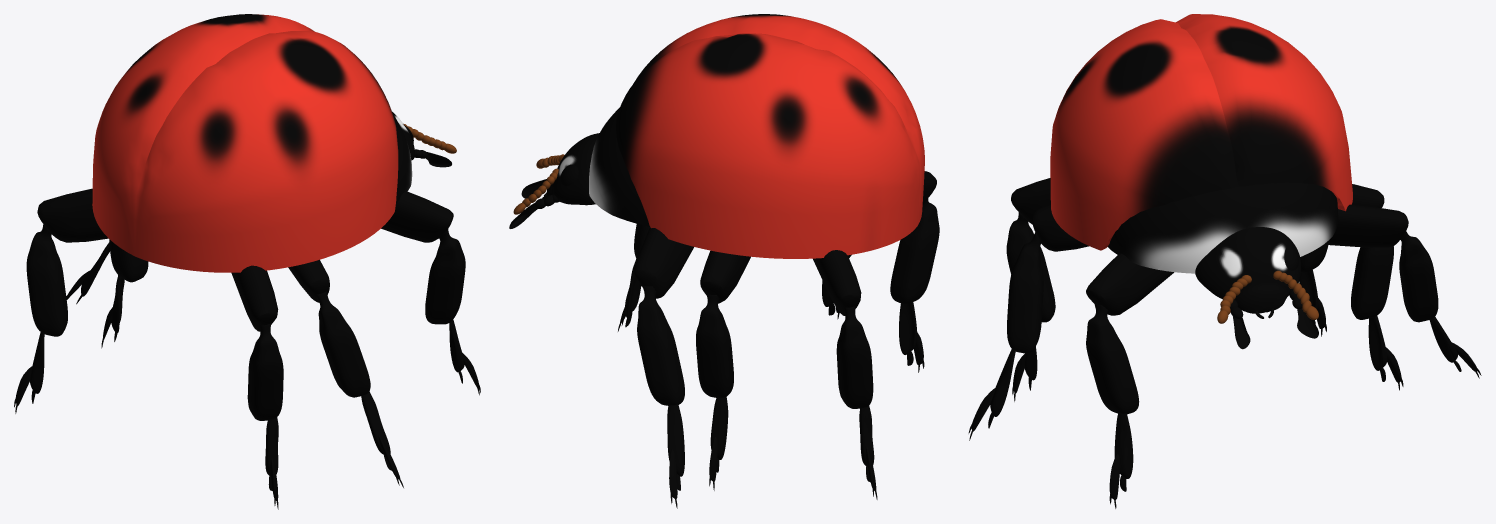
The model's file is chiamaia.glb.
The picture shows the model from 3 angles, left to right: view 1: azimuth 30°, elevation 25°; view 2: azimuth 150°, elevation 25°; view 3: azimuth 270°, elevation 25°; orthographic projection.
Parts seen in each view (by area): view 1: LADYBUG, Cube.017, Cube.007, Cube.002, Cube.012, Cube.016, Cube.001, Cube.011, Cube.006, Cube.022, Sphere.003, Cube.008 (+2 smaller); view 2: LADYBUG, Cube.027, Sphere.003, Cube.012, Cube.022, Cube.017, Cube.026, Cube.016, Icosphere, Cube.021, Cube.028, Cube.023 (+4 smaller); view 3: LADYBUG, Sphere.003, Icosphere, Cube.002, Cube.007, Cube.001, Cube.026, Cube.027, Cube.022, Cube.012, Cube.006, Cube.011 (+7 smaller).
Part boxes in pixels (box(x1,y1,x2,y2)): LADYBUG: box(92, 14, 398, 272); Cube.017: box(26, 224, 67, 336); Cube.007: box(316, 291, 370, 397); Cube.002: box(425, 229, 465, 324); Cube.012: box(247, 323, 283, 420); Cube.016: box(37, 188, 108, 242); Cube.001: box(381, 191, 453, 242); Cube.011: box(231, 265, 278, 331); Cube.006: box(288, 259, 329, 302); Cube.022: box(109, 239, 148, 282); Sphere.003: box(393, 115, 412, 202); Cube.008: box(361, 391, 390, 454); LADYBUG: box(616, 14, 924, 258); Cube.027: box(637, 285, 684, 405); Sphere.003: box(589, 107, 649, 226); Cube.012: box(890, 198, 939, 304); Cube.022: box(696, 294, 733, 397); Cube.017: box(836, 306, 873, 408); Cube.026: box(634, 227, 693, 298); Cube.016: box(813, 250, 861, 315); Icosphere: box(546, 133, 599, 205); Cube.021: box(700, 250, 750, 303); Cube.028: box(667, 404, 684, 476); Cube.023: box(710, 396, 728, 459); LADYBUG: box(1050, 14, 1352, 250); Sphere.003: box(1108, 182, 1338, 273); Icosphere: box(1195, 227, 1300, 313); Cube.002: box(1086, 304, 1139, 414); Cube.007: box(1007, 232, 1043, 353); Cube.001: box(1086, 253, 1173, 315); Cube.026: box(1324, 204, 1408, 247); Cube.027: box(1399, 231, 1438, 322); Cube.022: box(1351, 246, 1393, 319); Cube.012: box(1006, 212, 1055, 322); Cube.006: box(1032, 204, 1088, 251); Cube.011: box(1011, 178, 1050, 224).
Size of the model in its own units: 0.0652 by 0.0625 by 0.0724.
6 materials, 2 textured.
